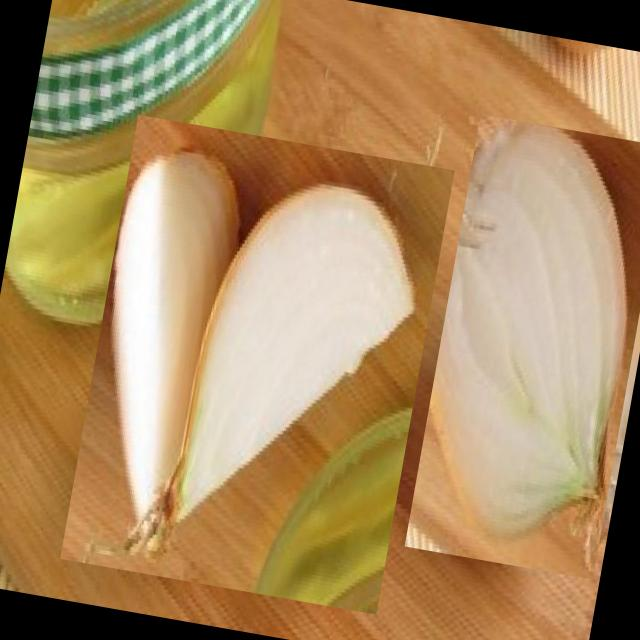Onion: (59, 113, 456, 615), (404, 113, 640, 579)
